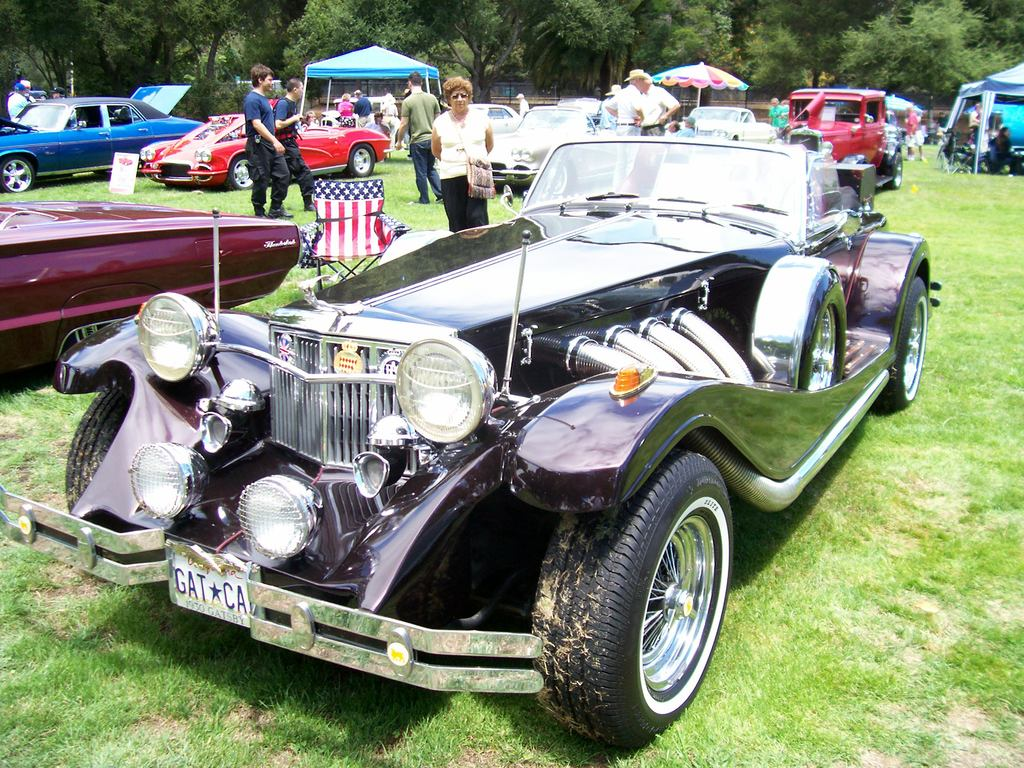Car: (0, 199, 298, 377), (0, 84, 206, 193), (136, 110, 393, 189), (484, 81, 617, 196), (679, 103, 779, 146), (469, 105, 522, 136)
